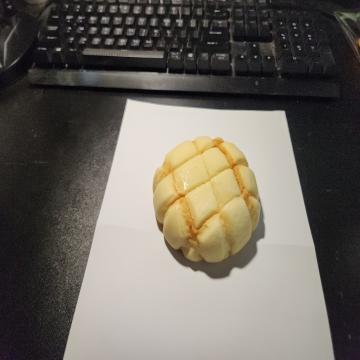melon_bread: (152, 135, 261, 264)
